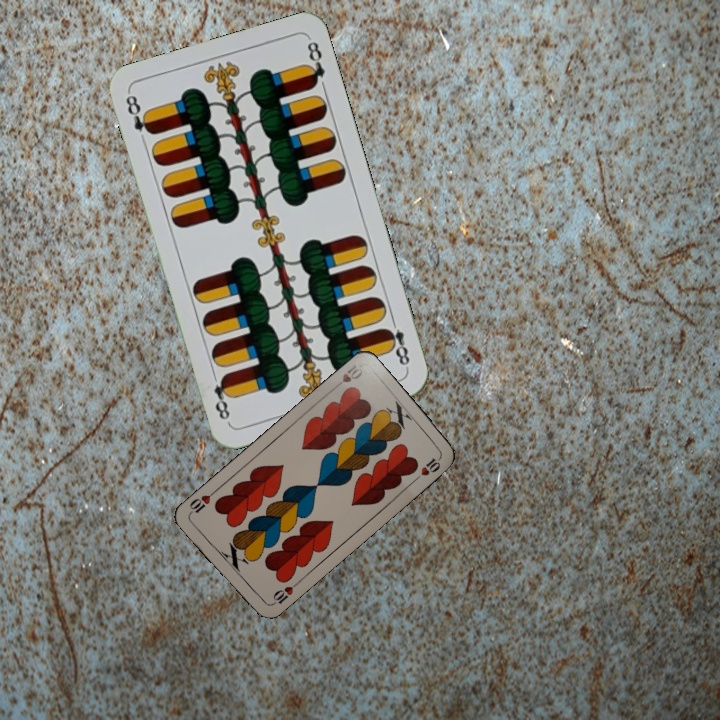E8: (380, 313, 413, 371), (121, 91, 156, 138)
H10: (329, 360, 365, 392), (267, 578, 301, 608)
